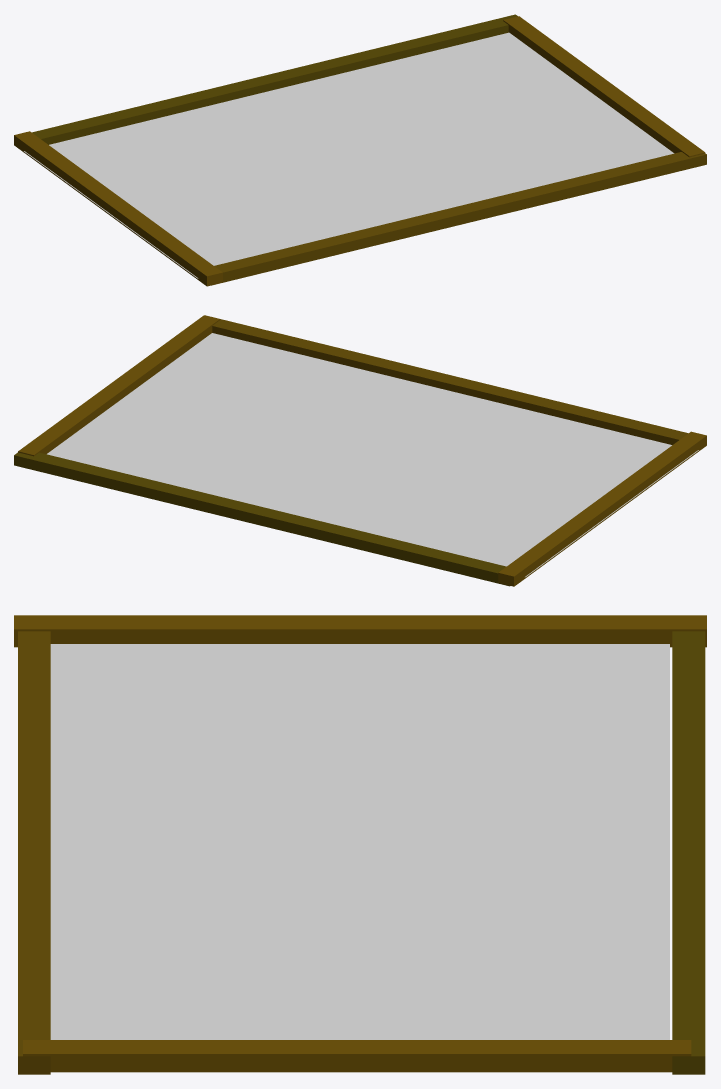
The model's file is picture 4.fbx.
The picture shows the model from 3 angles, top to bottom: view 1: azimuth 30°, elevation 25°; view 2: azimuth 150°, elevation 25°; view 3: azimuth 270°, elevation 25°; orthographic projection. The views are drawn at different scales.
Visible parts, largest first — view 1: 平面, 立方体.003, 立方体.002, 立方体.001, 立方体; view 2: 平面, 立方体.002, 立方体.003, 立方体.001, 立方体; view 3: 平面, 立方体, 立方体.001, 立方体.002, 立方体.003.
Part boxes in pixels (left/top/right/bottom): 平面: left=24, top=32, right=674, bottom=278; 立方体.003: left=211, top=152, right=706, bottom=285; 立方体.002: left=32, top=14, right=517, bottom=144; 立方体.001: left=14, top=131, right=222, bottom=286; 立方体: left=503, top=16, right=705, bottom=157; 平面: left=47, top=333, right=698, bottom=577; 立方体.002: left=14, top=452, right=509, bottom=586; 立方体.003: left=205, top=315, right=688, bottom=444; 立方体.001: left=498, top=431, right=706, bottom=586; 立方体: left=18, top=315, right=219, bottom=456; 平面: left=50, top=644, right=669, bottom=1039; 立方体: left=23, top=1040, right=691, bottom=1072; 立方体.001: left=14, top=615, right=706, bottom=647; 立方体.002: left=672, top=631, right=705, bottom=1074; 立方体.003: left=18, top=631, right=50, bottom=1074.
Bounding box in the file's own units: 467 × 10.1 × 311.
